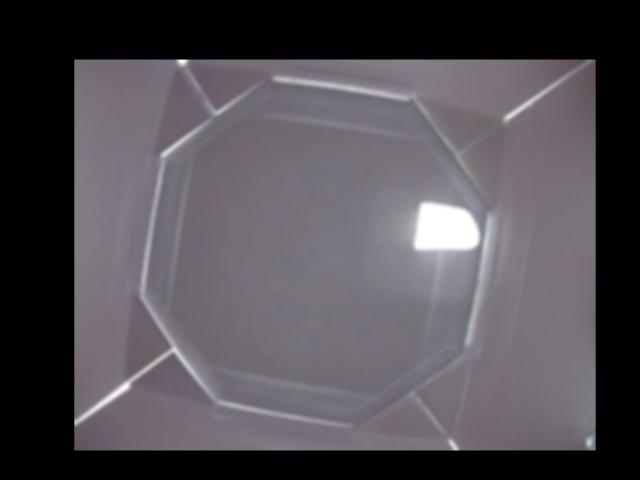Pebble: (413, 200, 478, 251)
